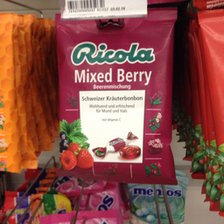candy: (54, 11, 175, 183)
